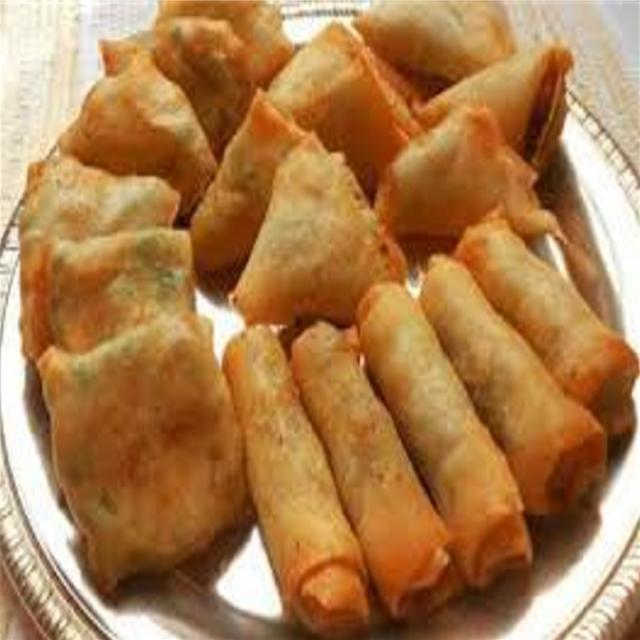Samosa: (185, 2, 586, 314)
Spring Rolls: (230, 220, 636, 636)
